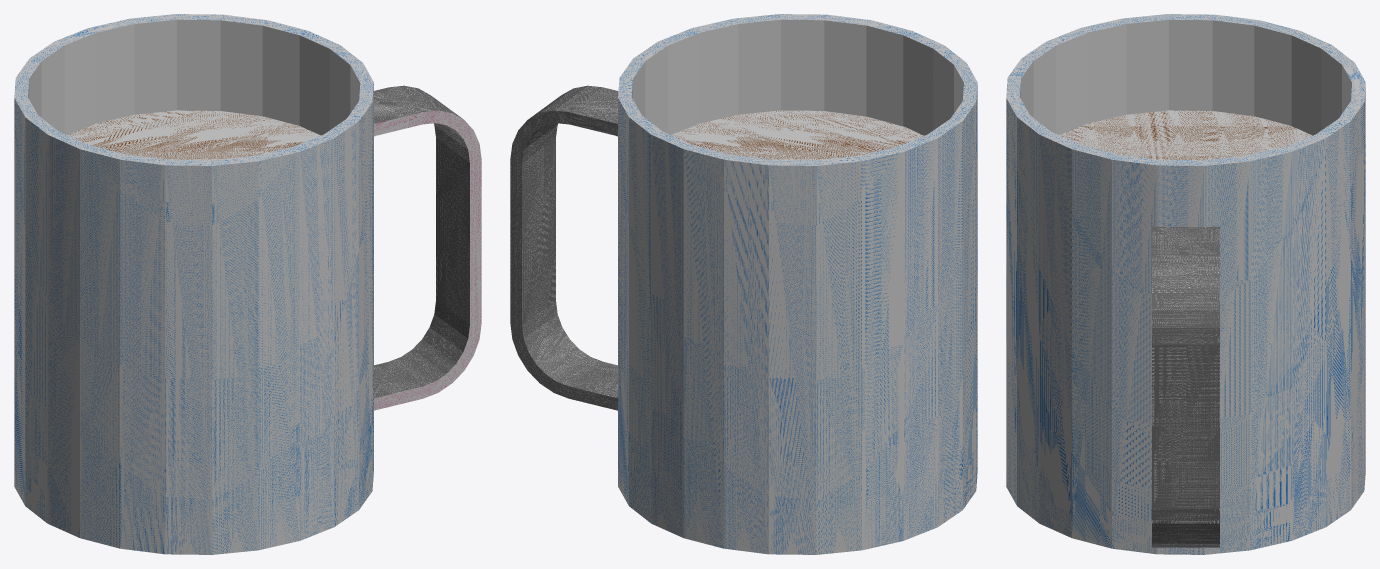
The picture shows the model from 3 angles, left to right: view 1: azimuth 30°, elevation 25°; view 2: azimuth 150°, elevation 25°; view 3: azimuth 270°, elevation 25°; orthographic projection.
Parts seen in each view (by area): view 1: mesh1.001_mesh1-geometry, mesh2.001_mesh2-geometry; view 2: mesh1.001_mesh1-geometry, mesh2.001_mesh2-geometry; view 3: mesh1.001_mesh1-geometry, mesh2.001_mesh2-geometry.
Boxes of the visible parts, <box> form: mesh1.001_mesh1-geometry: <box>14,14,373,554</box>; mesh2.001_mesh2-geometry: <box>374,85,481,410</box>; mesh1.001_mesh1-geometry: <box>618,14,977,554</box>; mesh2.001_mesh2-geometry: <box>510,85,618,410</box>; mesh1.001_mesh1-geometry: <box>1006,14,1365,554</box>; mesh2.001_mesh2-geometry: <box>1152,226,1219,547</box>.
Bounding box in the file's own units: 0.6602 × 0.5757 × 0.4823.
